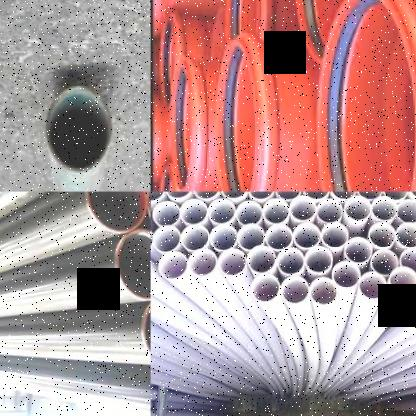pipe: (313, 0, 416, 191), (216, 30, 264, 192), (46, 84, 111, 174), (291, 0, 372, 68), (168, 57, 202, 192), (83, 192, 149, 236), (114, 228, 150, 302), (223, 0, 270, 45), (138, 292, 151, 367), (251, 274, 279, 302), (344, 236, 372, 264), (158, 252, 187, 279), (188, 249, 217, 276), (310, 277, 337, 305), (359, 272, 387, 299), (389, 266, 416, 294), (218, 249, 246, 276), (281, 276, 308, 303), (153, 225, 180, 252), (237, 223, 264, 250), (305, 246, 333, 272), (248, 246, 276, 272), (265, 224, 293, 250), (293, 222, 321, 248), (321, 222, 349, 248), (332, 262, 361, 287), (262, 198, 289, 224), (210, 225, 238, 250), (181, 225, 209, 250), (368, 222, 396, 247), (152, 201, 180, 226), (209, 198, 235, 224), (371, 250, 398, 275), (277, 249, 304, 274), (180, 199, 207, 224), (317, 198, 343, 223), (236, 201, 263, 224), (371, 197, 398, 220), (344, 197, 371, 220), (290, 197, 317, 220), (395, 222, 416, 246), (396, 199, 416, 222), (399, 248, 416, 273), (383, 192, 408, 200), (164, 192, 192, 198), (303, 192, 330, 198), (248, 192, 275, 198), (193, 192, 220, 198), (220, 192, 247, 198), (357, 192, 383, 198), (275, 192, 301, 198), (330, 192, 355, 198)
